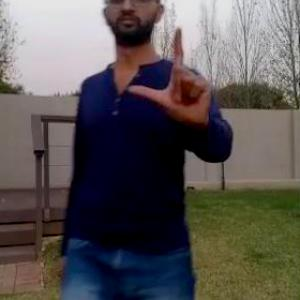land_hand: (130, 24, 216, 130)
